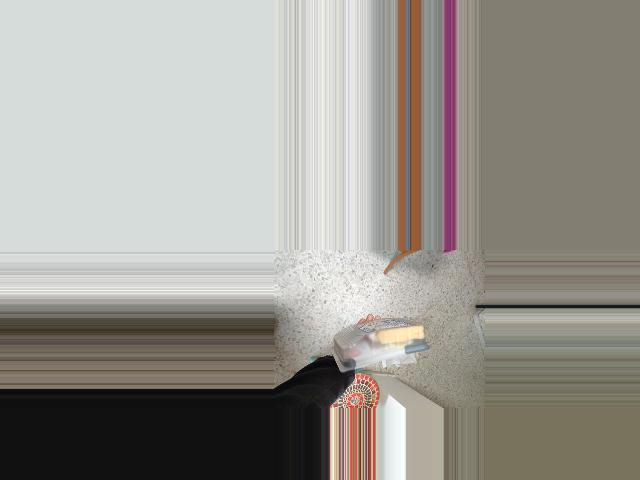cheese: (334, 316, 429, 375)
